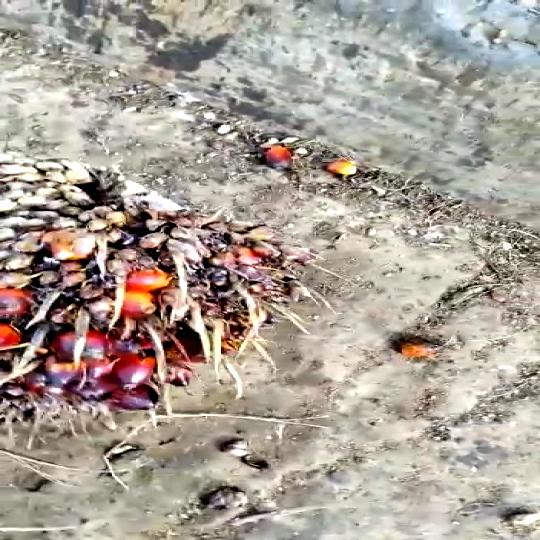masak: (0, 155, 305, 424)
